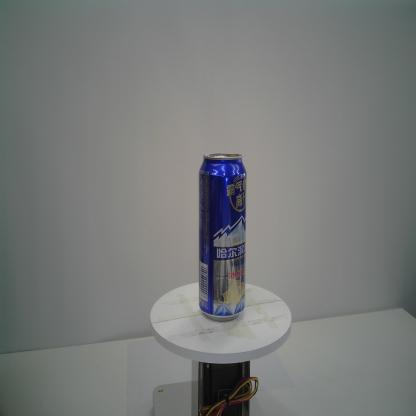Alcohol: (195, 146, 250, 325)
